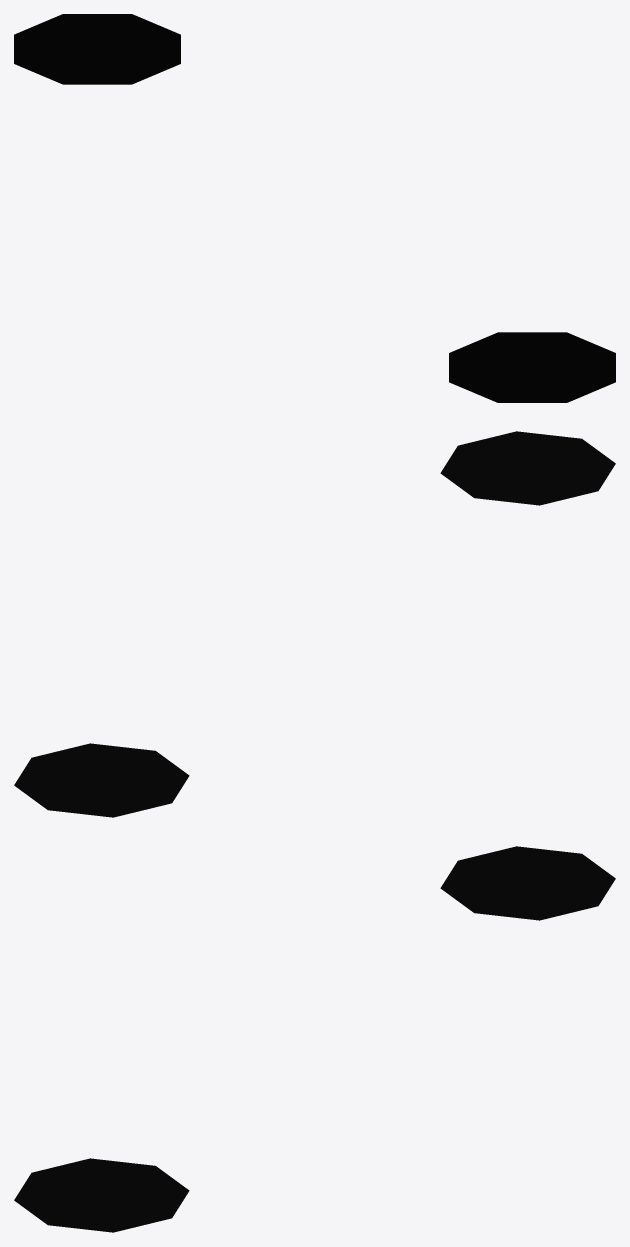
3 renders of one model, top to bottom at view 1: azimuth 30°, elevation 25°; view 2: azimuth 150°, elevation 25°; view 3: azimuth 330°, elevation 25°, orthographic. The views are drawn at different scales.
Parts seen in each view (by area): view 1: Joint_0_Object_0, Joint_0_Object_1; view 2: Joint_0_Object_0, Joint_0_Object_1; view 3: Joint_0_Object_0, Joint_0_Object_1.
Boxes of the visible parts, x1,y1,x2,y2 form: Joint_0_Object_0: (449,332,615,402); Joint_0_Object_1: (14,14,180,84); Joint_0_Object_0: (440,431,615,505); Joint_0_Object_1: (14,743,189,817); Joint_0_Object_0: (14,1158,189,1232); Joint_0_Object_1: (440,846,615,920).
Bounding box in the file's own units: 270 × 1.7 × 1582.
1 material, 1 textured.
